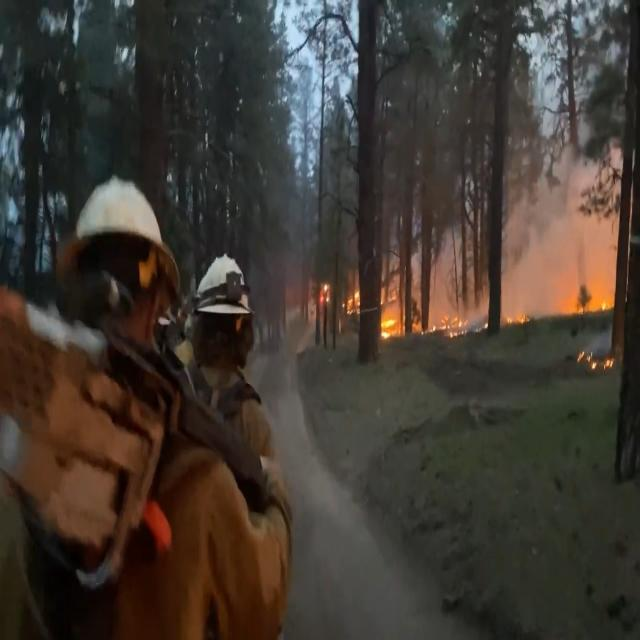Fire: (344, 268, 616, 372)
